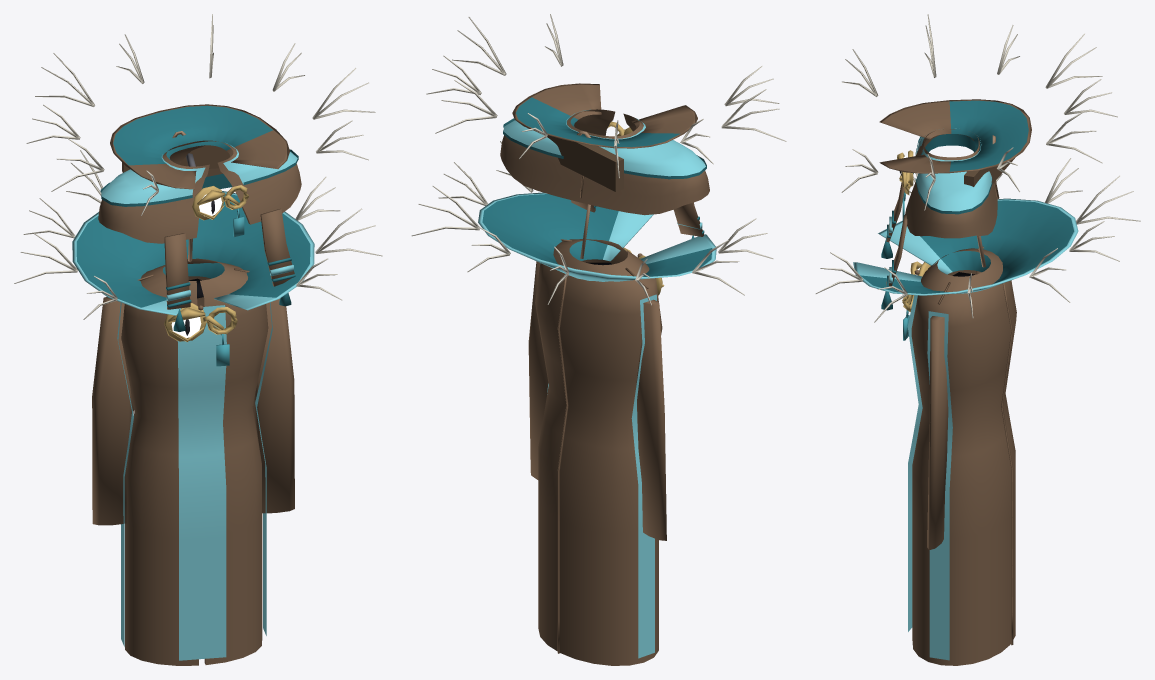
File: coat-eavesdropper.glb
The picture shows the model from 3 angles, left to right: view 1: azimuth 30°, elevation 25°; view 2: azimuth 150°, elevation 25°; view 3: azimuth 270°, elevation 25°; orthographic projection. The views are drawn at different scales.
Visible parts, largest first — view 1: coat-eavesdropper, coat-eavesdropper_worn, sway_sleeve_r, sway_sleeve_l; view 2: coat-eavesdropper, coat-eavesdropper_worn, sway_sleeve_r, sway_sleeve_l; view 3: coat-eavesdropper, coat-eavesdropper_worn, sway_sleeve_l.
Boxes of the visible parts, left/top/right/bottom form: coat-eavesdropper: left=14, top=145, right=382, bottom=665; coat-eavesdropper_worn: left=26, top=14, right=375, bottom=309; sway_sleeve_r: left=92, top=297, right=133, bottom=525; sway_sleeve_l: left=253, top=298, right=294, bottom=513; coat-eavesdropper: left=411, top=128, right=773, bottom=665; coat-eavesdropper_worn: left=426, top=14, right=786, bottom=236; sway_sleeve_r: left=636, top=299, right=666, bottom=540; sway_sleeve_l: left=528, top=261, right=548, bottom=479; coat-eavesdropper: left=815, top=158, right=1140, bottom=665; coat-eavesdropper_worn: left=841, top=14, right=1117, bottom=286; sway_sleeve_l: left=927, top=316, right=948, bottom=550.
Size of the model in its own units: 1.4 by 2.35 by 1.22.
